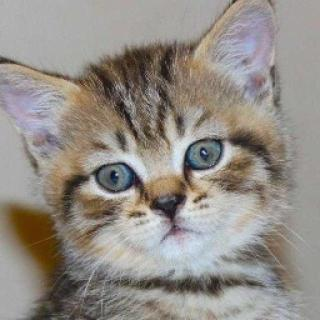cat: (14, 45, 292, 283)
nose: (138, 181, 197, 222)
